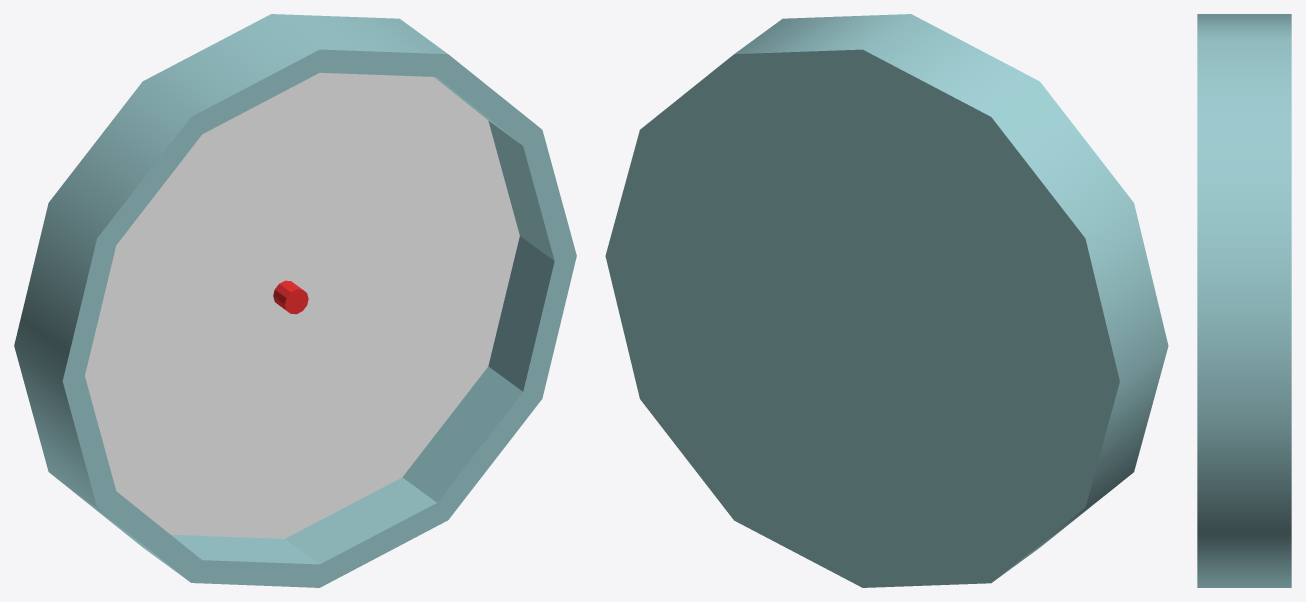
File: Itr_Obj_clock1_06.FBX
3 renders of one model, left to right at view 1: azimuth 30°, elevation 25°; view 2: azimuth 150°, elevation 25°; view 3: azimuth 270°, elevation 25°, orthographic. The views are drawn at different scales.
Parts seen in each view (by area): view 1: Itr_Obj_clock1_06; view 2: Itr_Obj_clock1_06; view 3: Itr_Obj_clock1_06.
Part boxes in pixels (x1,y1,x2,y2): Itr_Obj_clock1_06: (14,14,576,587); Itr_Obj_clock1_06: (605,14,1168,587); Itr_Obj_clock1_06: (1197,14,1291,587).
Size of the model in its own units: 12.23 by 12.23 by 2.
